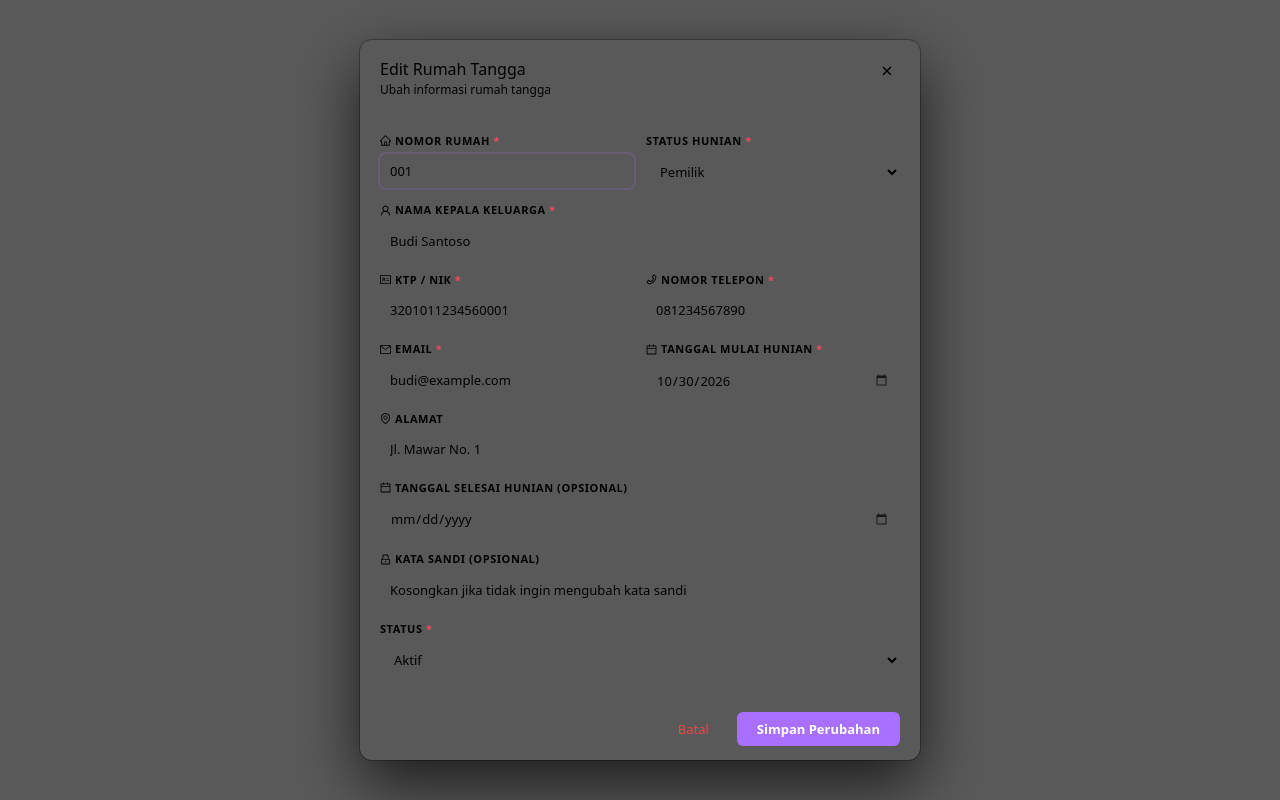
Test: W4.3 — HouseholdEdit form rendering › rejects blank NIK on edit
Clear the field labelled "KTP / NIK *" at (507, 310), box 380,293 -> 634,327
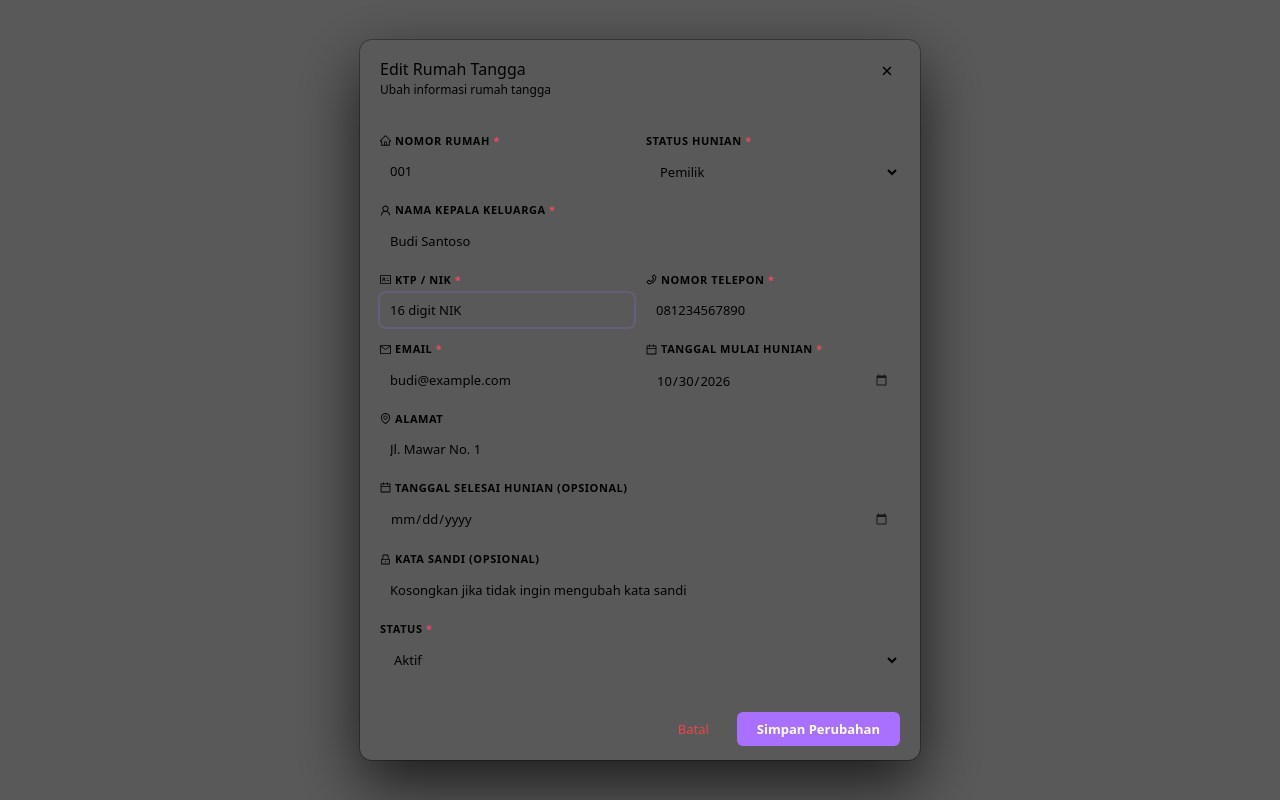
Submit the form, box 360,113 -> 920,760
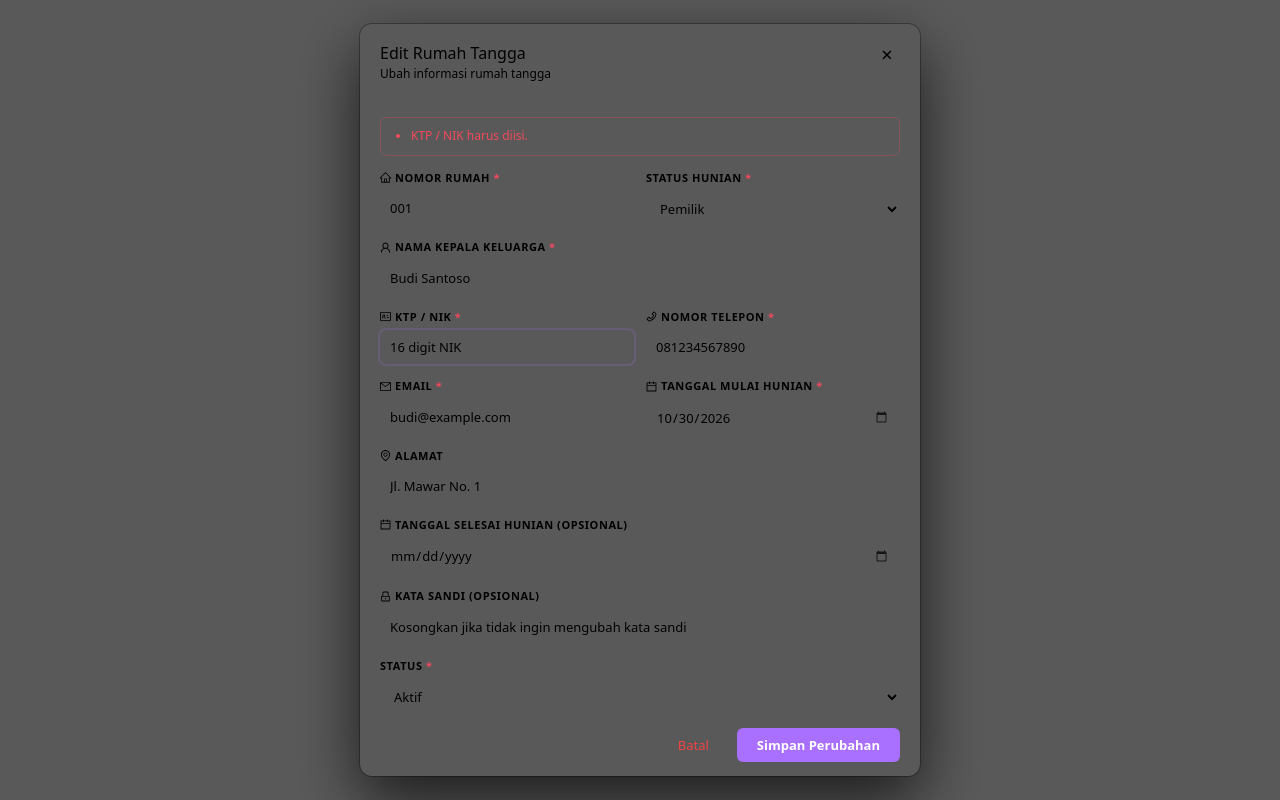
Check: the list item "KTP / NIK harus diisi." is shown, box 411,127 -> 528,144
